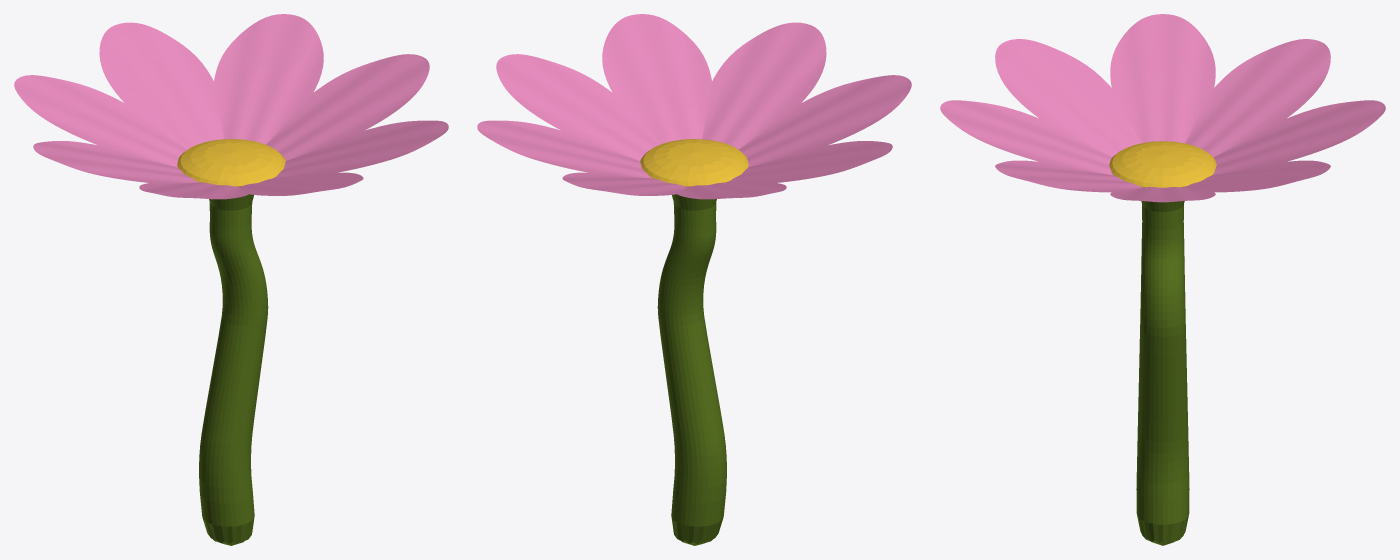
File: flower_01.fbx
The picture shows the model from 3 angles, left to right: view 1: azimuth 30°, elevation 25°; view 2: azimuth 150°, elevation 25°; view 3: azimuth 270°, elevation 25°; orthographic projection.
Visible parts, largest first — view 1: Flower; view 2: Flower; view 3: Flower.
Boxes of the visible parts, bbox=[...] form: Flower: bbox=[14, 14, 448, 545]; Flower: bbox=[477, 14, 911, 545]; Flower: bbox=[940, 14, 1385, 545].
Size of the model in its own units: 759 by 823 by 759.
